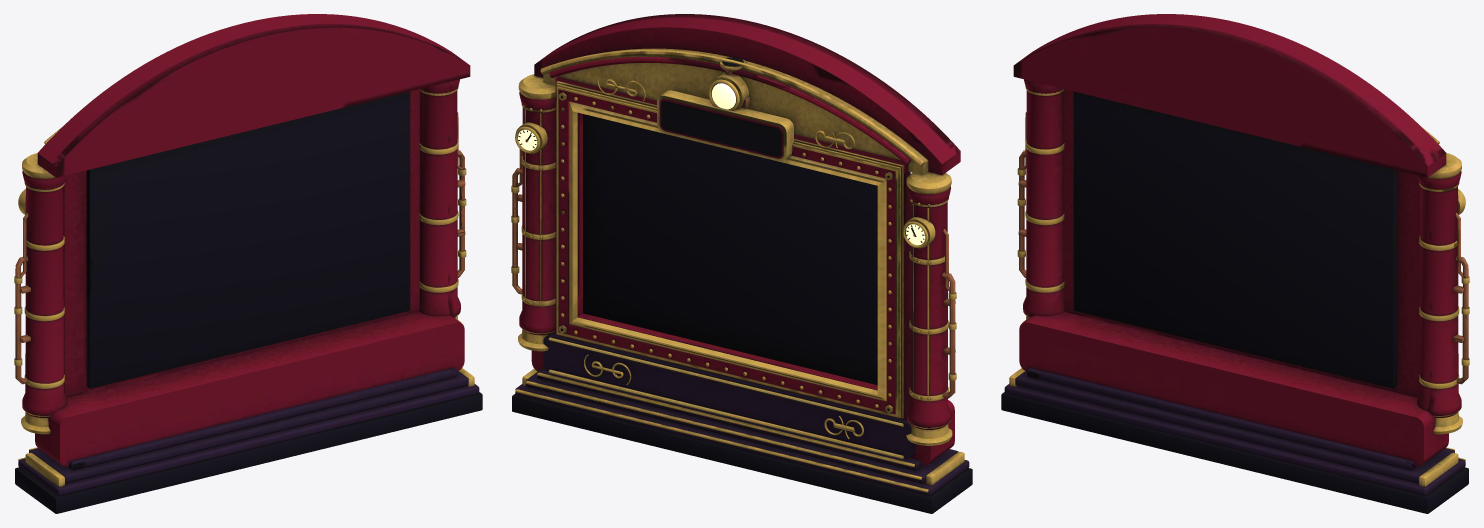
The picture shows the model from 3 angles, left to right: view 1: azimuth 30°, elevation 25°; view 2: azimuth 150°, elevation 25°; view 3: azimuth 330°, elevation 25°; orthographic projection.
Parts seen in each view (by area): view 1: Crimson_enamel, Midnight_inset, Violet_lacquer_timber, Polished_brass, Brushed_copper; view 2: Midnight_inset, Crimson_enamel, Polished_brass, Violet_lacquer_timber, Brushed_copper, glow_warm_lamps; view 3: Crimson_enamel, Midnight_inset, Violet_lacquer_timber, Polished_brass, Brushed_copper.
Boxes of the visible parts, bbox=[...] form: Crimson_enamel: bbox=[22, 14, 470, 466]; Midnight_inset: bbox=[15, 91, 482, 513]; Violet_lacquer_timber: bbox=[18, 368, 479, 495]; Polished_brass: bbox=[14, 86, 474, 486]; Brushed_copper: bbox=[15, 112, 465, 384]; Midnight_inset: bbox=[512, 57, 972, 513]; Crimson_enamel: bbox=[519, 14, 960, 465]; Polished_brass: bbox=[511, 48, 964, 492]; Violet_lacquer_timber: bbox=[515, 333, 969, 496]; Brushed_copper: bbox=[512, 67, 955, 398]; glow_warm_lamps: bbox=[518, 83, 925, 245]; Crimson_enamel: bbox=[1013, 14, 1461, 466]; Midnight_inset: bbox=[1001, 91, 1468, 513]; Violet_lacquer_timber: bbox=[1004, 368, 1465, 495]; Polished_brass: bbox=[1009, 86, 1469, 486]; Brushed_copper: bbox=[1018, 112, 1468, 384].
Size of the model in its own units: 11.87 by 10.6 by 1.95.
Materials: 6 (5 with a texture image).
